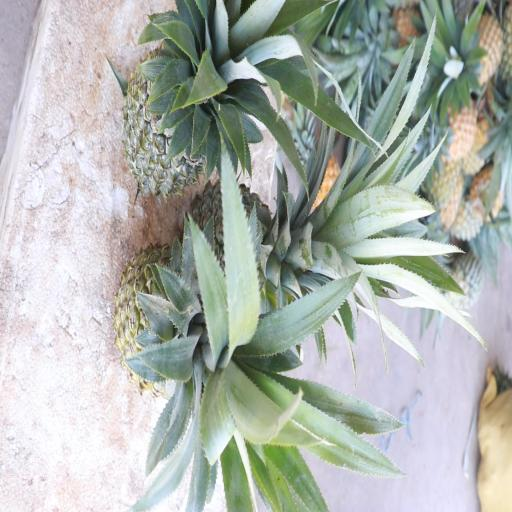------------------------------: (113, 246, 235, 406)
Pineapple - v8 v1: (445, 16, 508, 88), (429, 80, 479, 166)
